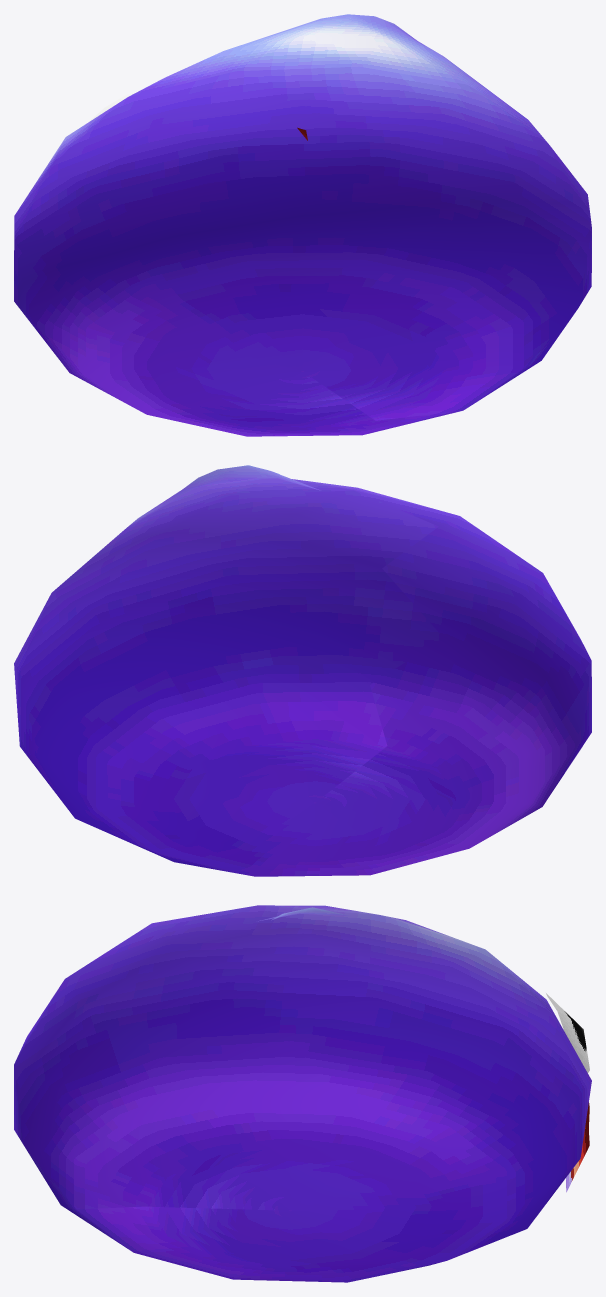
The model's file is ps2_save-icons_dragonquestv.glb.
The picture shows the model from 3 angles, top to bottom: view 1: azimuth 30°, elevation 25°; view 2: azimuth 150°, elevation 25°; view 3: azimuth 270°, elevation 25°; orthographic projection.
Visible parts, largest first — view 1: icon.ico; view 2: icon.ico; view 3: icon.ico.
Part boxes in pixels (x1,y1,x2,y2): icon.ico: [14, 14, 591, 436]; icon.ico: [14, 465, 591, 876]; icon.ico: [14, 905, 591, 1282].
Size of the model in its own units: 2.97 by 1.84 by 2.99.
1 material, 1 textured.
